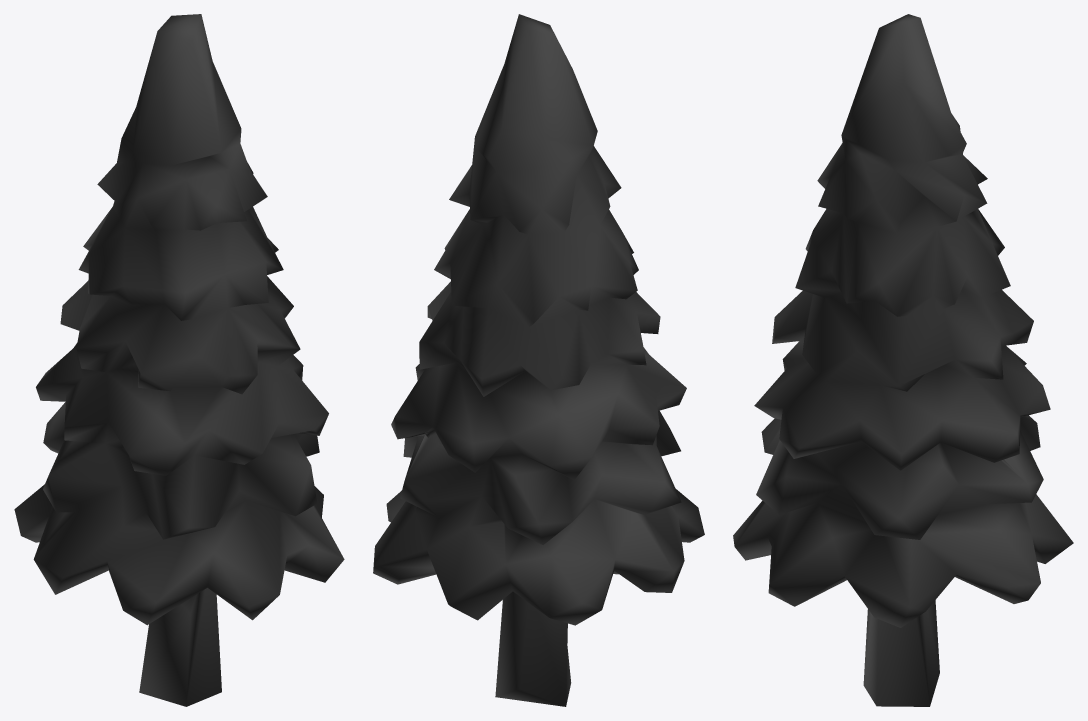
The model's file is tree_pine.glb.
3 views of the same model, side by side, from view 1: azimuth 30°, elevation 25°; view 2: azimuth 150°, elevation 25°; view 3: azimuth 270°, elevation 25° (orthographic).
Parts seen in each view (by area): view 1: geometry_0; view 2: geometry_0; view 3: geometry_0.
Part boxes in pixels (x1,y1,x2,y2): geometry_0: [14, 14, 344, 706]; geometry_0: [373, 14, 704, 706]; geometry_0: [733, 14, 1073, 706].
Bounding box in the file's own units: 0.987 × 2.2 × 1.
1 material, 1 textured.
